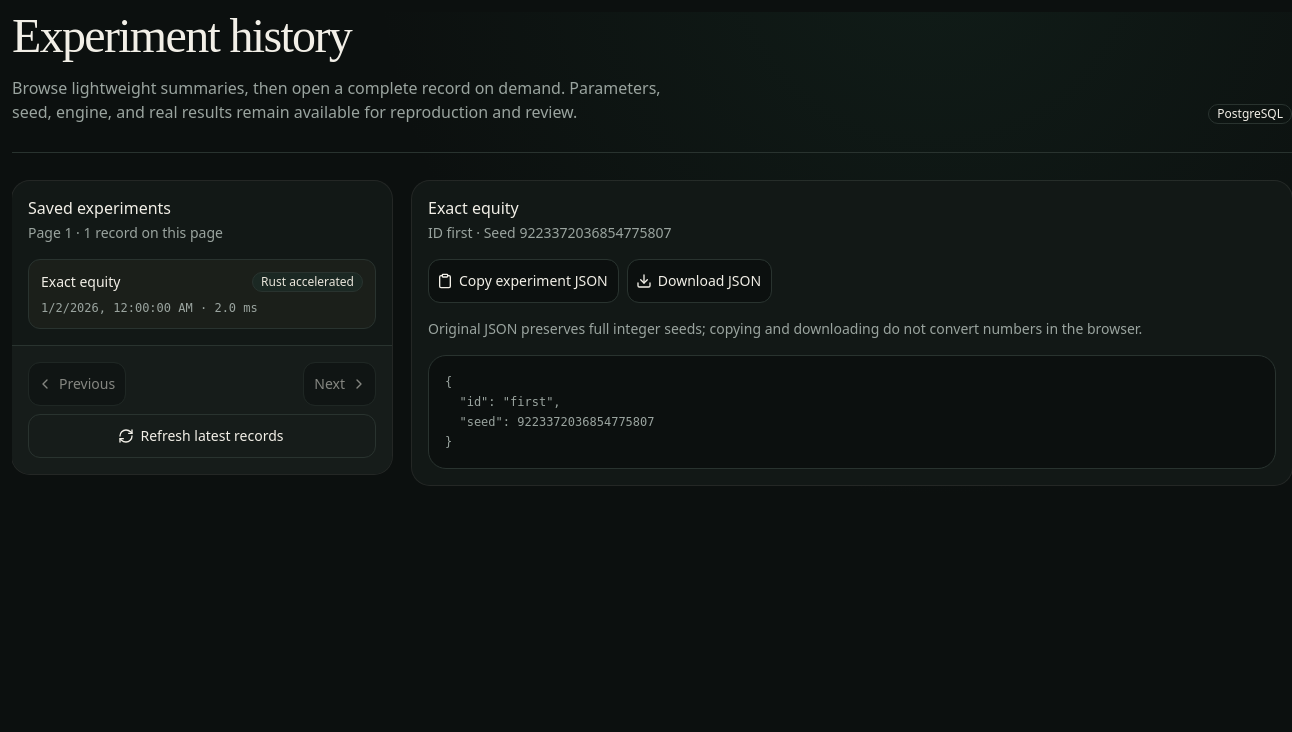
Test case: experiment ledger › handles denied clipboard permission and keeps download available
The image size is (1292, 732).
Expected: the text named "Complete experiment JSON" is shown, [428,355,1276,469]
Click the button "Copy experiment JSON".
click(523, 281)  # box [428,259,619,303]
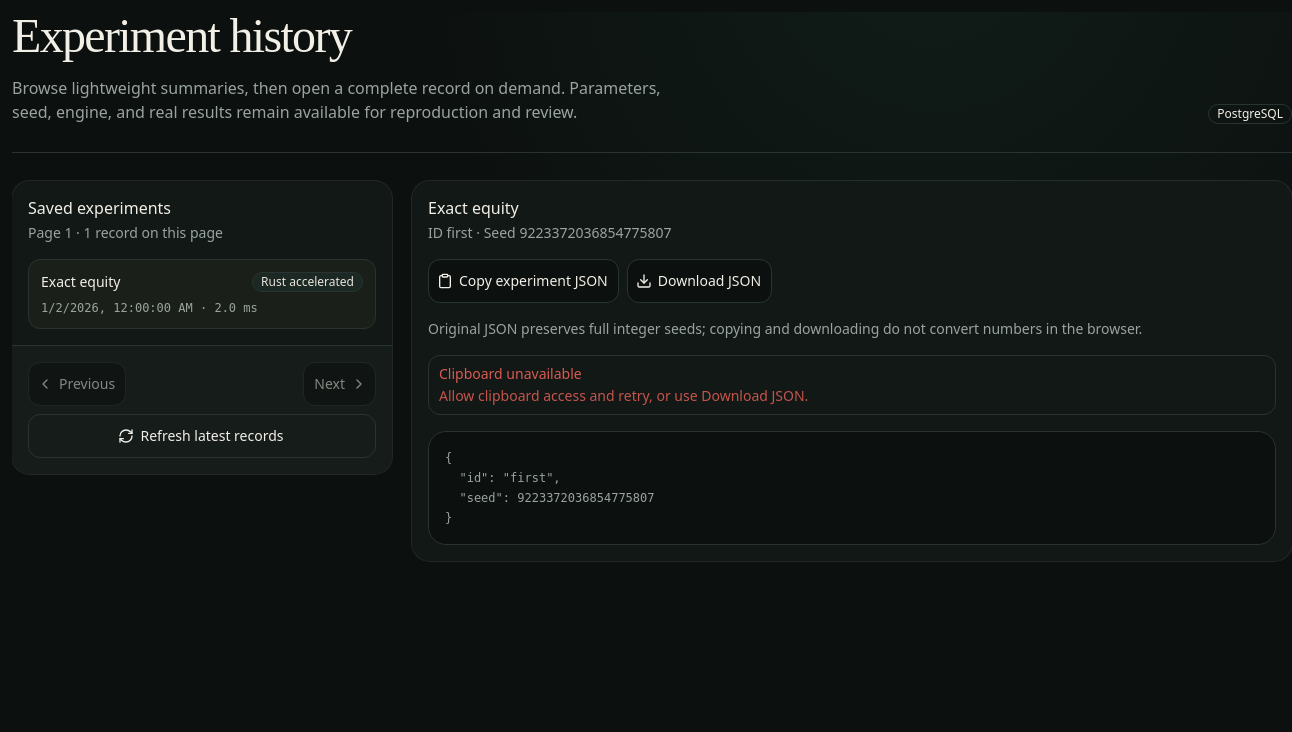
Expected: the button "Download JSON" is enabled, [627,259,772,303]
Result: the text "Clipboard unavailable" is shown at [439,364,582,383]
